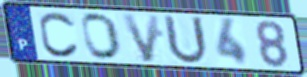4: (214, 15, 251, 69)
8: (254, 19, 291, 69)
C: (37, 10, 82, 60)
O: (80, 11, 124, 62)
U: (161, 12, 210, 67)
V: (119, 12, 162, 64)
